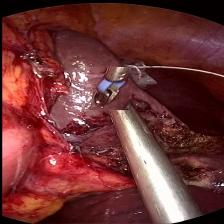Bipolar: (84, 67, 128, 110)
Specimen Bag: (113, 50, 165, 92)
